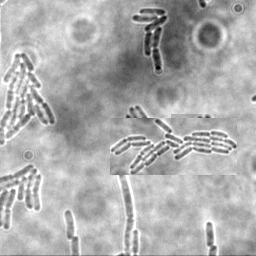Dividing: (114, 176, 133, 255), (204, 221, 215, 248)
Microcolony: (110, 118, 237, 175), (1, 51, 56, 147), (1, 162, 44, 231), (171, 114, 216, 169), (130, 8, 167, 72), (63, 208, 74, 240)
